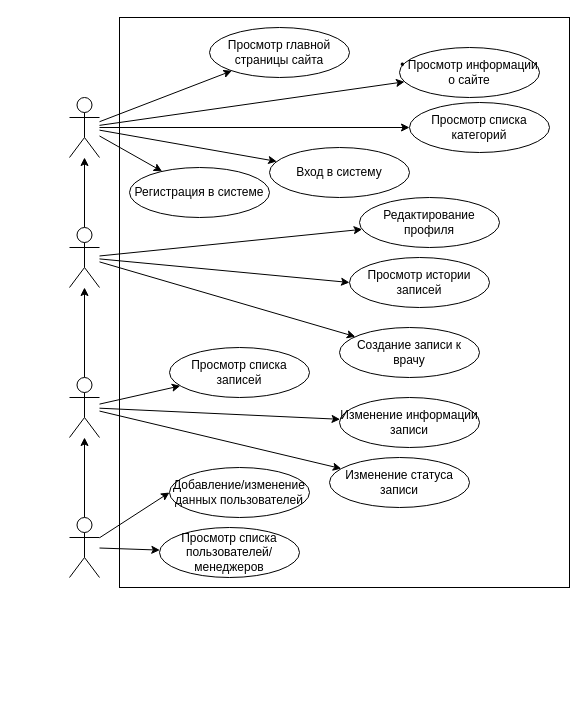
The diagram is 587 pixels wide and 702 high, and some of its shapes have lost their labels. The shapes that lost their labels are listed below. From the top down, each one's centre as x and y in pixels, then its label:
At (x=84, y=127): "Гость".
At (x=84, y=257): "Пользователь".
At (x=84, y=407): "Менеджер".
At (x=84, y=547): "Администратор".
